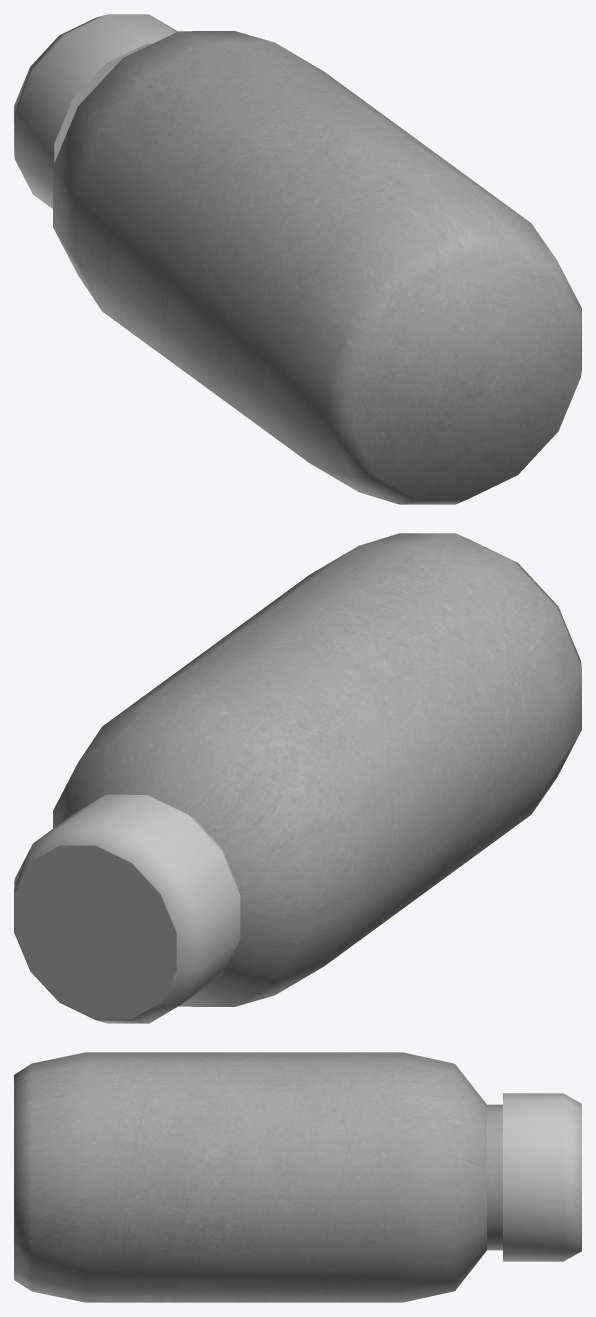
The model's file is Fixed_Item_Bottle Small_Ver1.fbx.
3 renders of one model, top to bottom at view 1: azimuth 30°, elevation 25°; view 2: azimuth 150°, elevation 25°; view 3: azimuth 270°, elevation 25°, orthographic. The views are drawn at different scales.
Parts seen in each view (by area): view 1: Pill Bottle small_body, Pill Bottle small_cap; view 2: Pill Bottle small_body, Pill Bottle small_cap; view 3: Pill Bottle small_body, Pill Bottle small_cap.
Boxes of the visible parts, x1,y1,x2,y2 form: Pill Bottle small_body: [53, 31, 581, 504]; Pill Bottle small_cap: [14, 14, 177, 208]; Pill Bottle small_body: [53, 533, 581, 1006]; Pill Bottle small_cap: [14, 794, 240, 1023]; Pill Bottle small_body: [14, 1052, 502, 1302]; Pill Bottle small_cap: [503, 1093, 581, 1261].
Bounding box in the file's own units: 63.81 × 65.45 × 148.
Materials: 1 (1 with a texture image).
